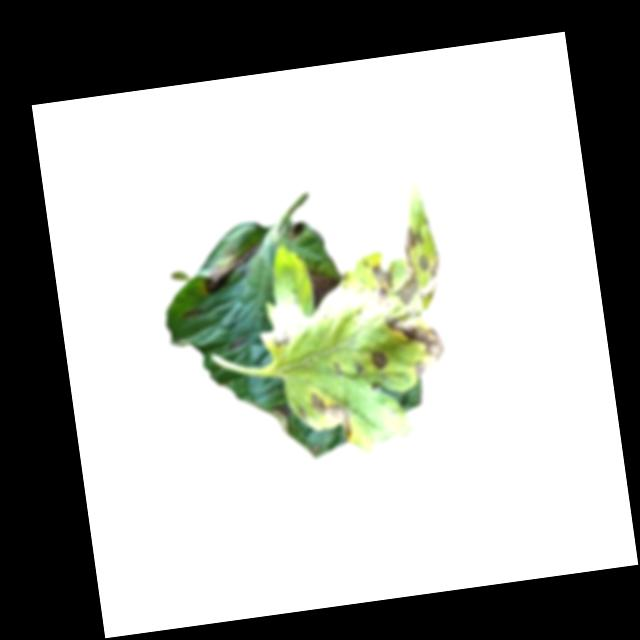Early_blight: (361, 222, 454, 381), (198, 235, 263, 299), (306, 387, 353, 443), (304, 266, 342, 314), (267, 318, 295, 348), (369, 349, 389, 372)
